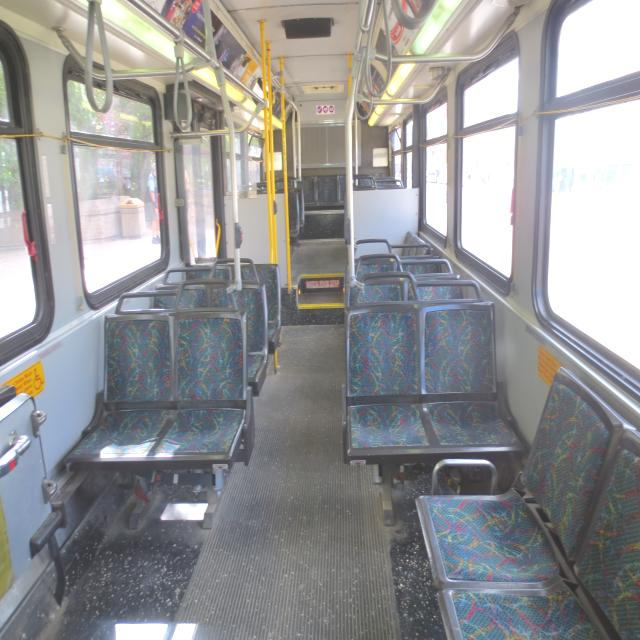asiento-libre: (440, 423, 640, 640), (420, 370, 618, 586), (64, 292, 178, 464), (414, 281, 526, 454), (146, 281, 248, 463), (345, 273, 435, 456), (209, 255, 272, 398), (237, 259, 286, 352), (349, 237, 397, 305), (151, 269, 212, 312), (353, 254, 405, 304), (402, 261, 463, 300), (341, 177, 377, 243), (392, 244, 445, 274), (278, 187, 300, 250), (183, 260, 235, 285), (316, 174, 339, 205), (339, 174, 360, 205), (298, 177, 316, 206), (242, 183, 272, 199), (374, 179, 405, 191), (271, 176, 294, 189), (372, 173, 391, 187), (242, 182, 268, 191)
